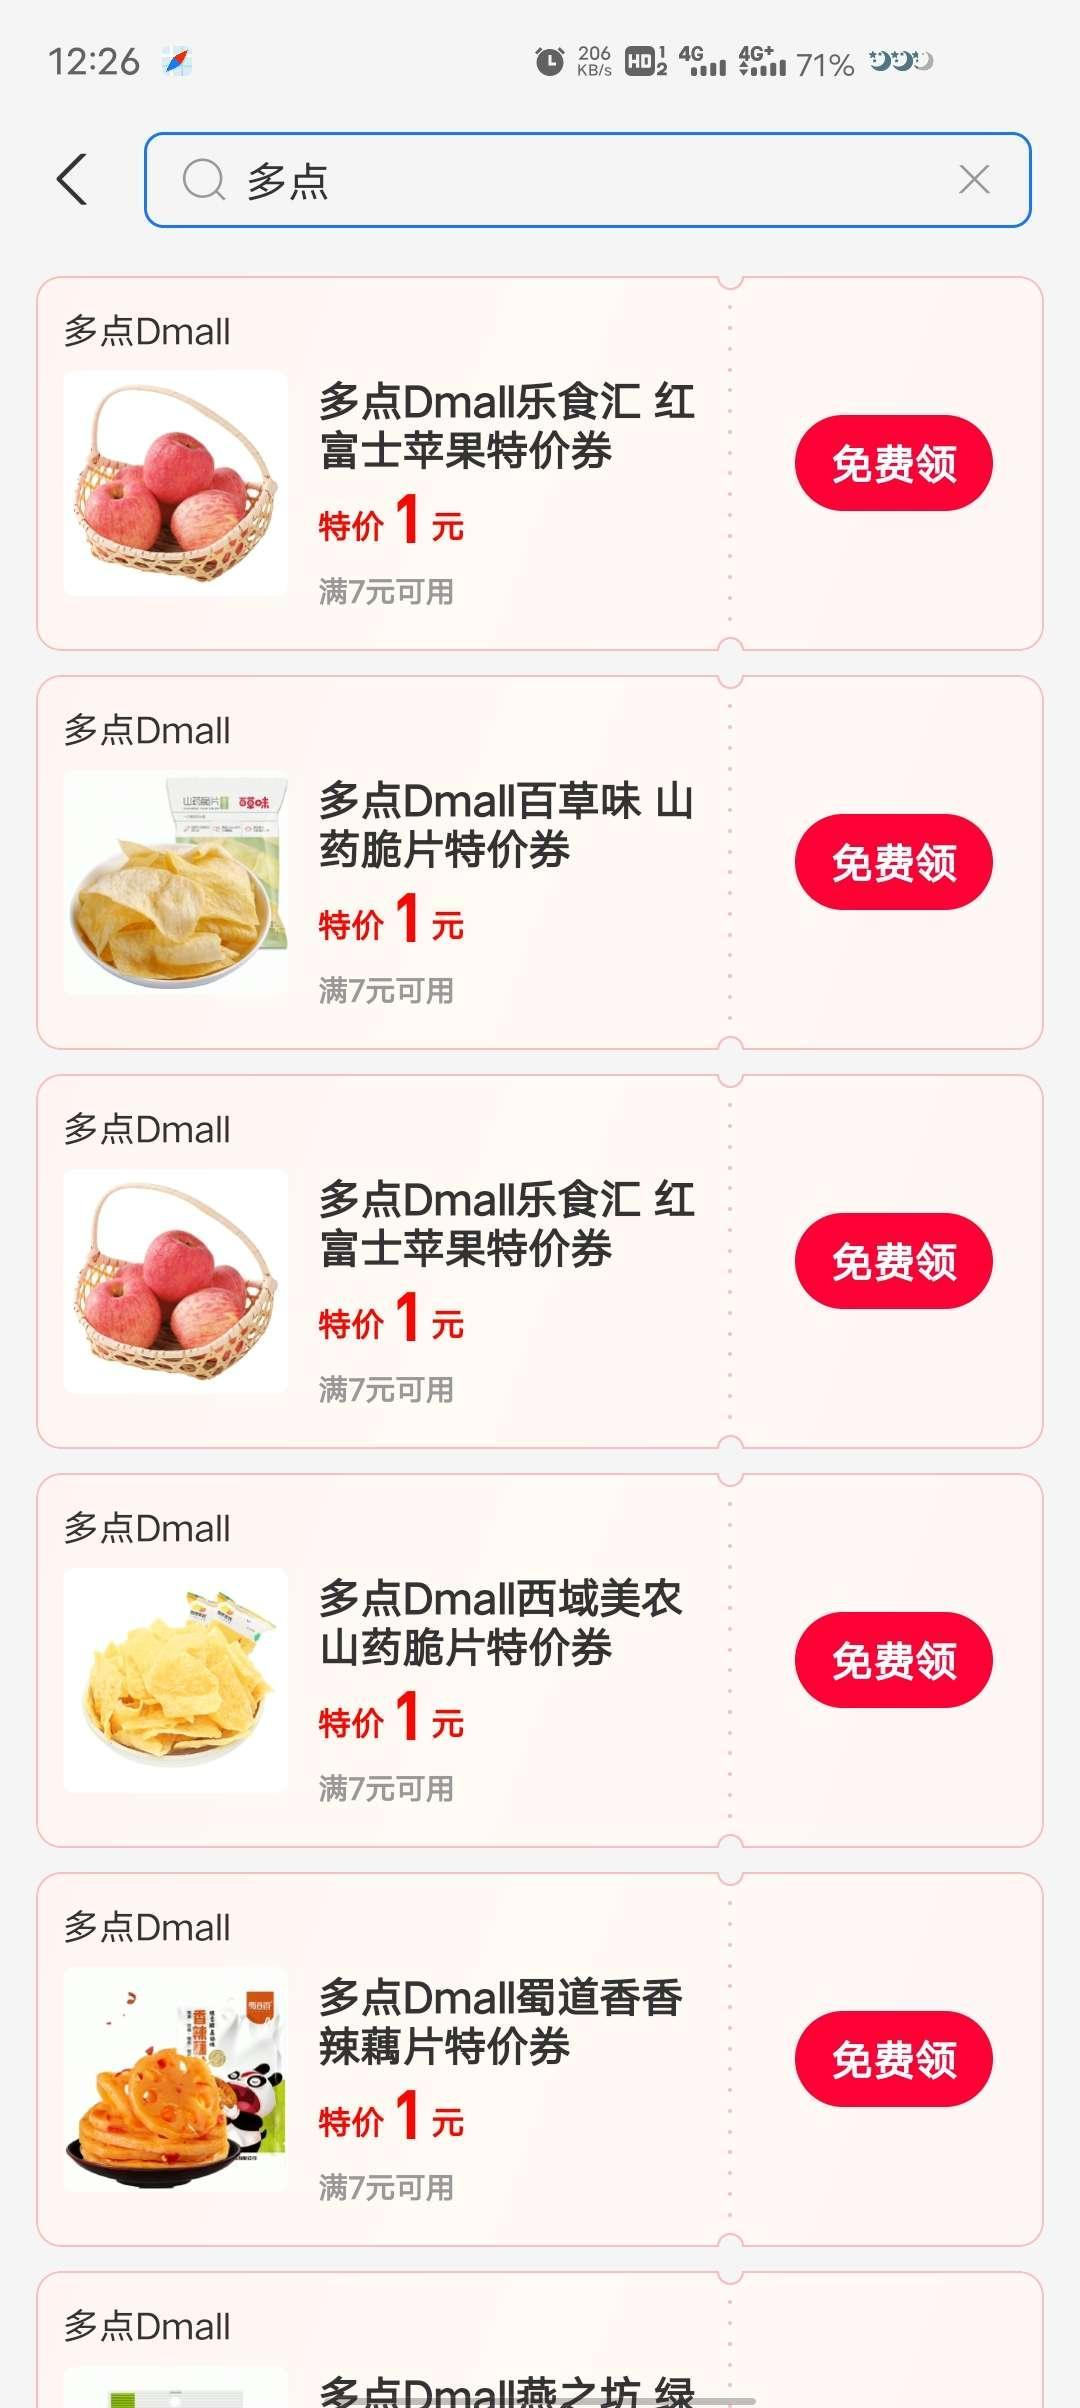apple: (78, 482, 158, 556), (141, 432, 218, 505), (144, 1232, 217, 1307), (83, 1282, 161, 1351), (164, 488, 241, 557), (171, 1287, 241, 1354)
